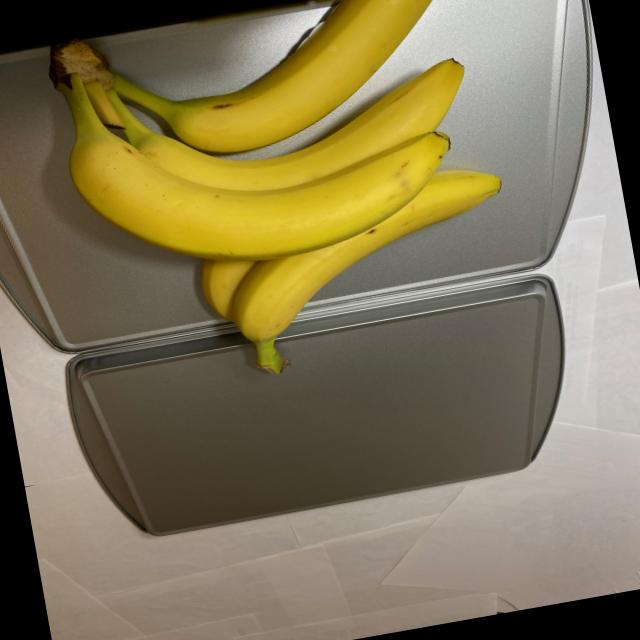banana: (38, 0, 535, 405)
